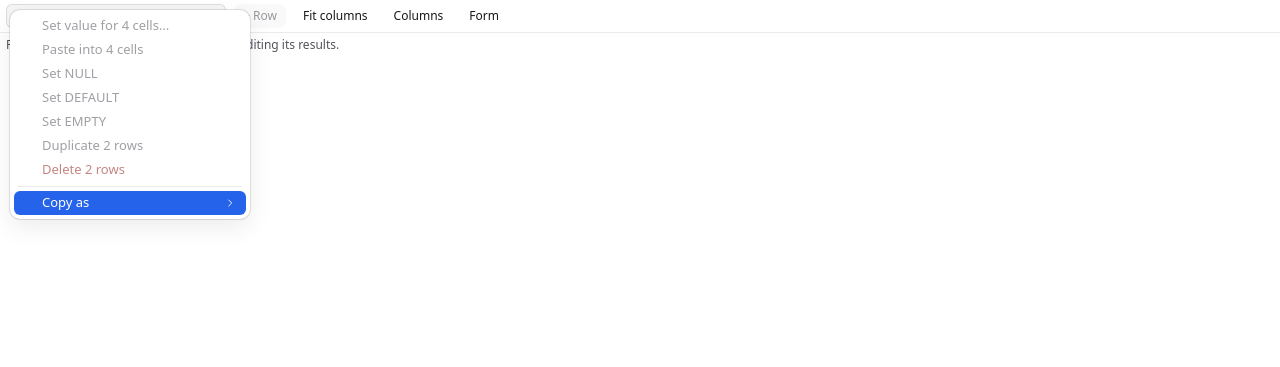
Test: reports the inspector cell in result coordinates and copies from the menu
Expected: the menu named "Table actions" is shown, [10,10,250,219]
Click the menu item "Copy as": (130, 203) [14,191,246,215]
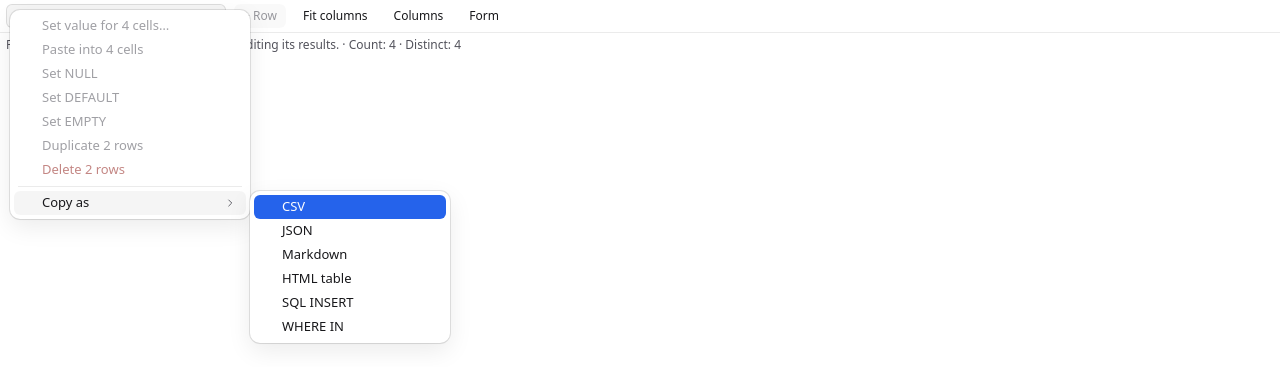
Click the menu item "CSV": (350, 207) [254,195,446,219]
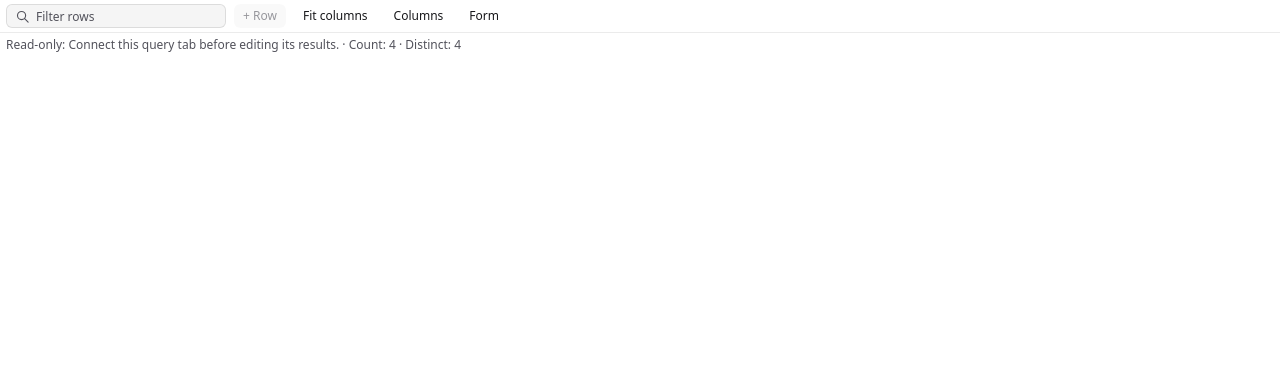
Expected: the menu is gone
